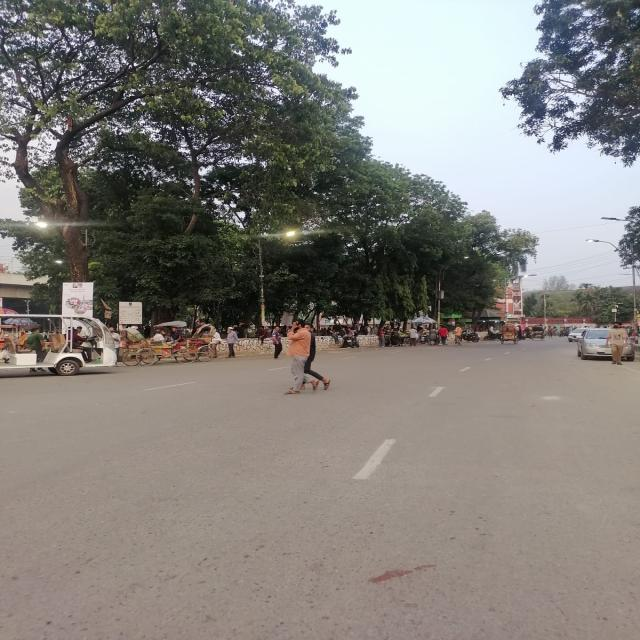person: (285, 319, 318, 395), (301, 323, 330, 391)
